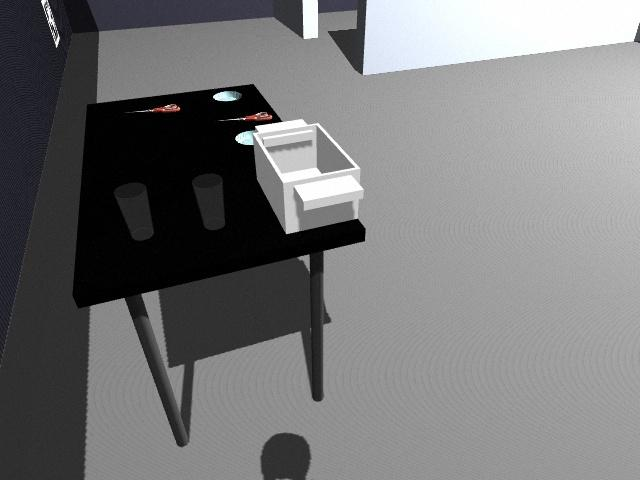cup: (114, 183, 153, 238), (191, 174, 224, 230), (114, 183, 147, 200)
plate: (212, 89, 243, 102), (235, 130, 256, 145)
scissors: (124, 104, 181, 115), (219, 112, 271, 122)
